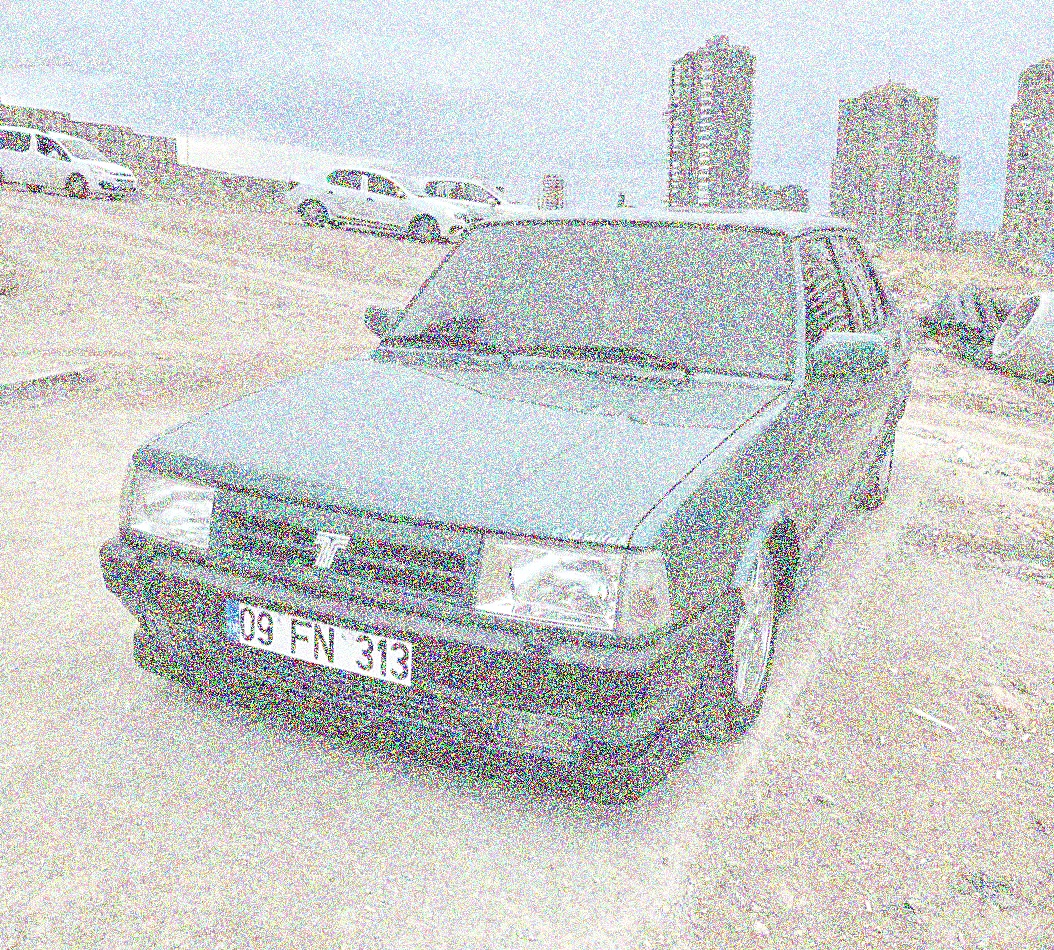plaka: (231, 593, 421, 695)
